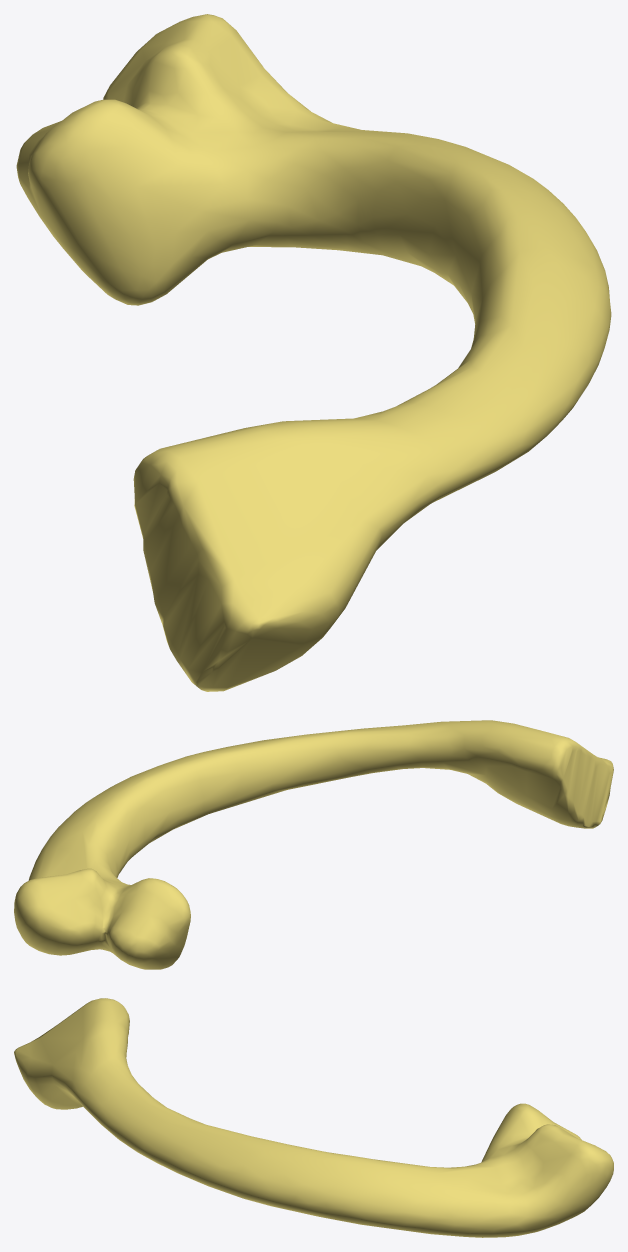
File: optic-tract-l.glb
The picture shows the model from 3 angles, top to bottom: view 1: azimuth 30°, elevation 25°; view 2: azimuth 150°, elevation 25°; view 3: azimuth 270°, elevation 25°; orthographic projection. The views are drawn at different scales.
Parts seen in each view (by area): view 1: Optic tract.l; view 2: Optic tract.l; view 3: Optic tract.l.
Part boxes in pixels (left/top/right/bottom): Optic tract.l: left=16, top=14, right=611, bottom=691; Optic tract.l: left=14, top=720, right=613, bottom=969; Optic tract.l: left=14, top=998, right=613, bottom=1237.
Size of the model in its own units: 0.0241 by 0.00778 by 0.0367.
